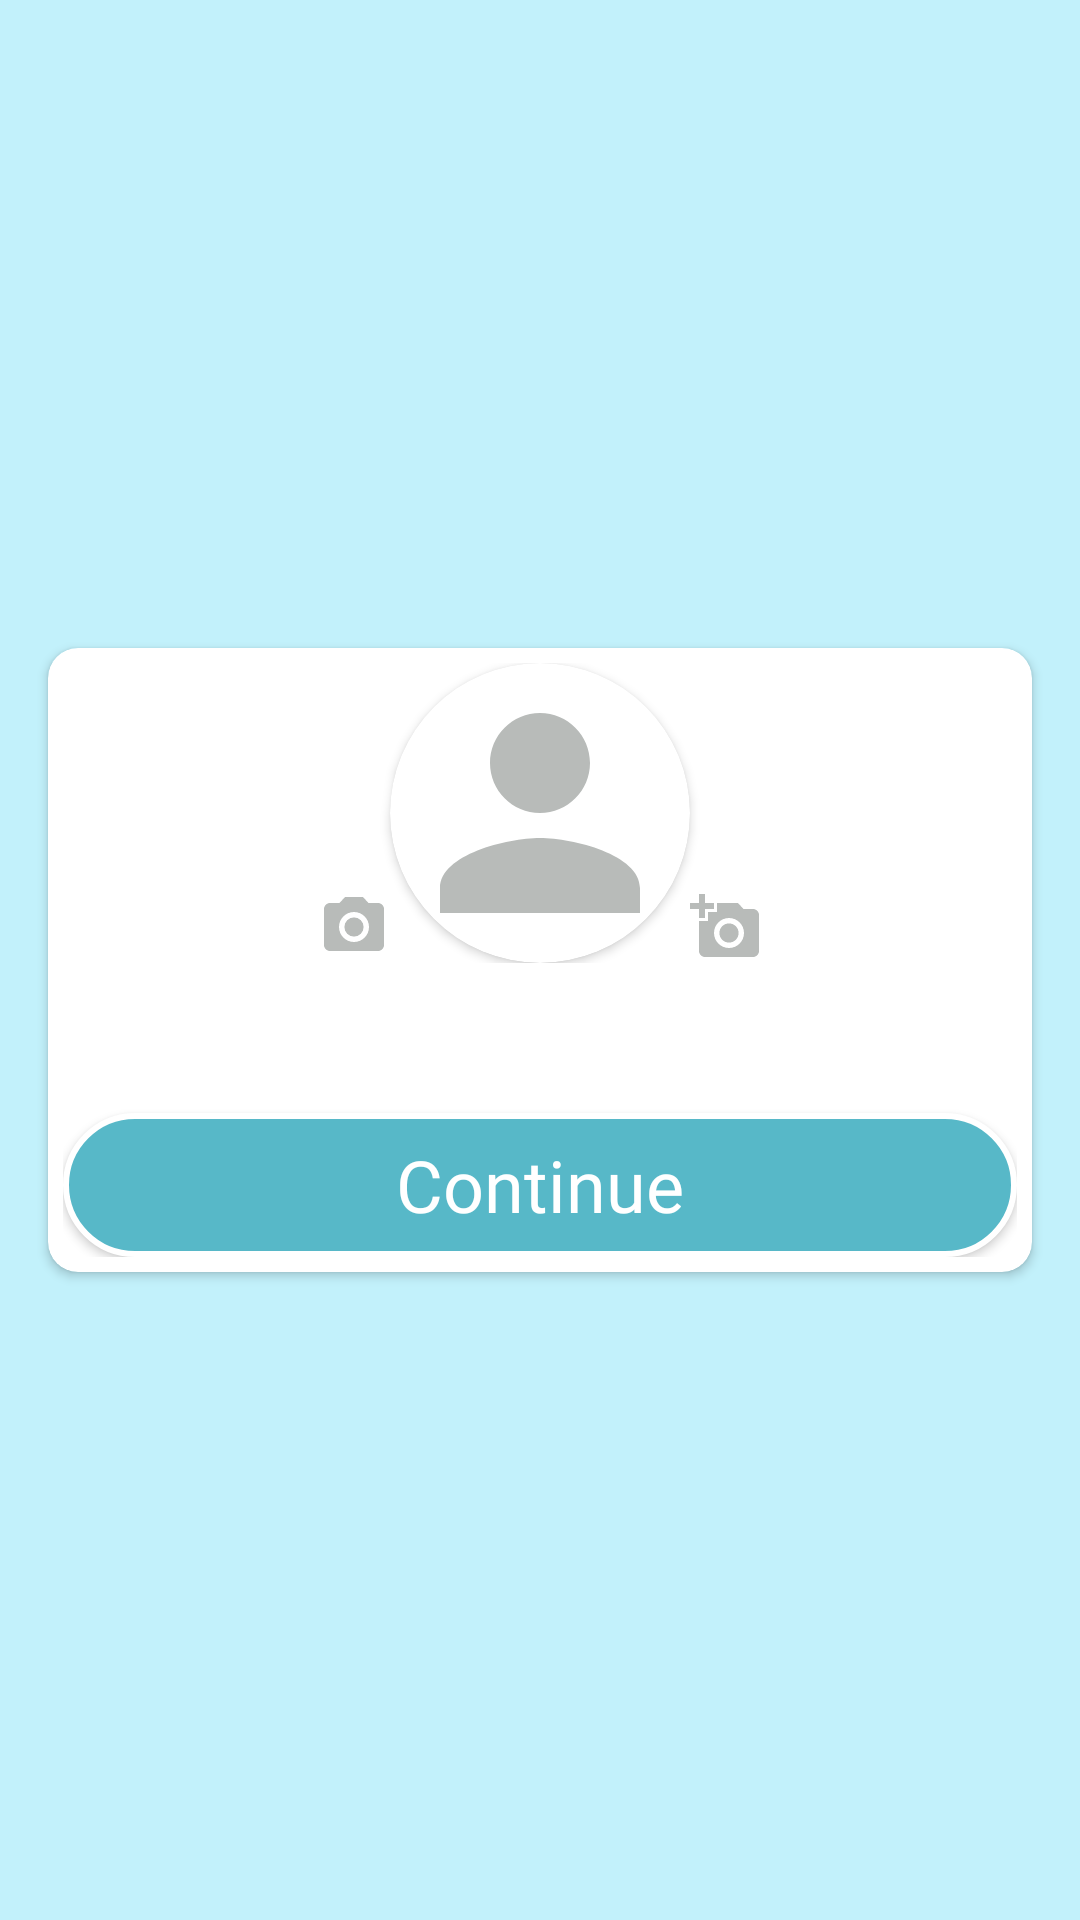

Screen size 1080x1920. Icon name, then its center in pixels as (x,y):
add photo: (724,925)
person: (540,838)
photo camera: (354,924)
